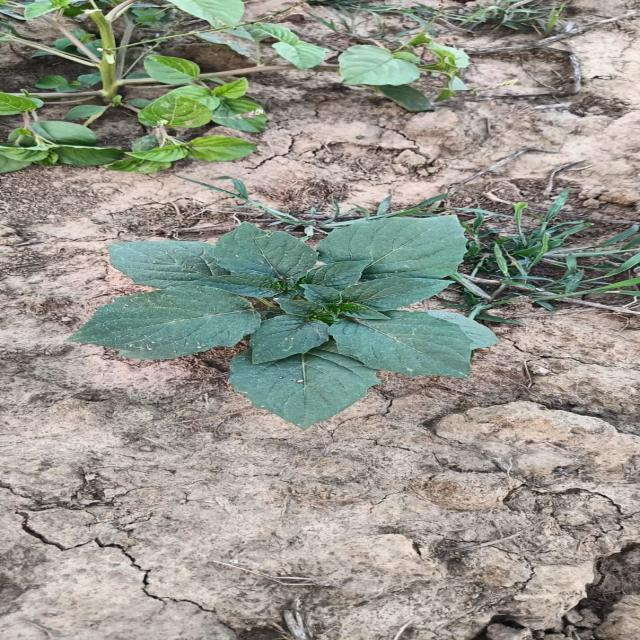plant: (68, 216, 494, 427)
